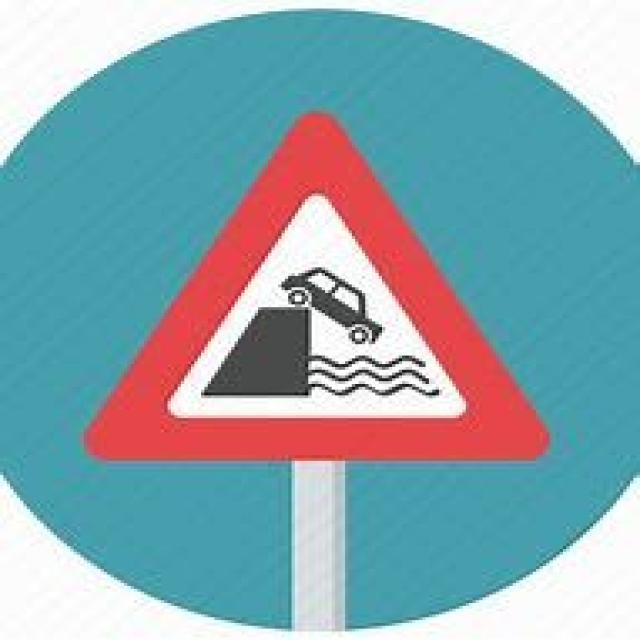quay side or river bank: (90, 111, 546, 465)
